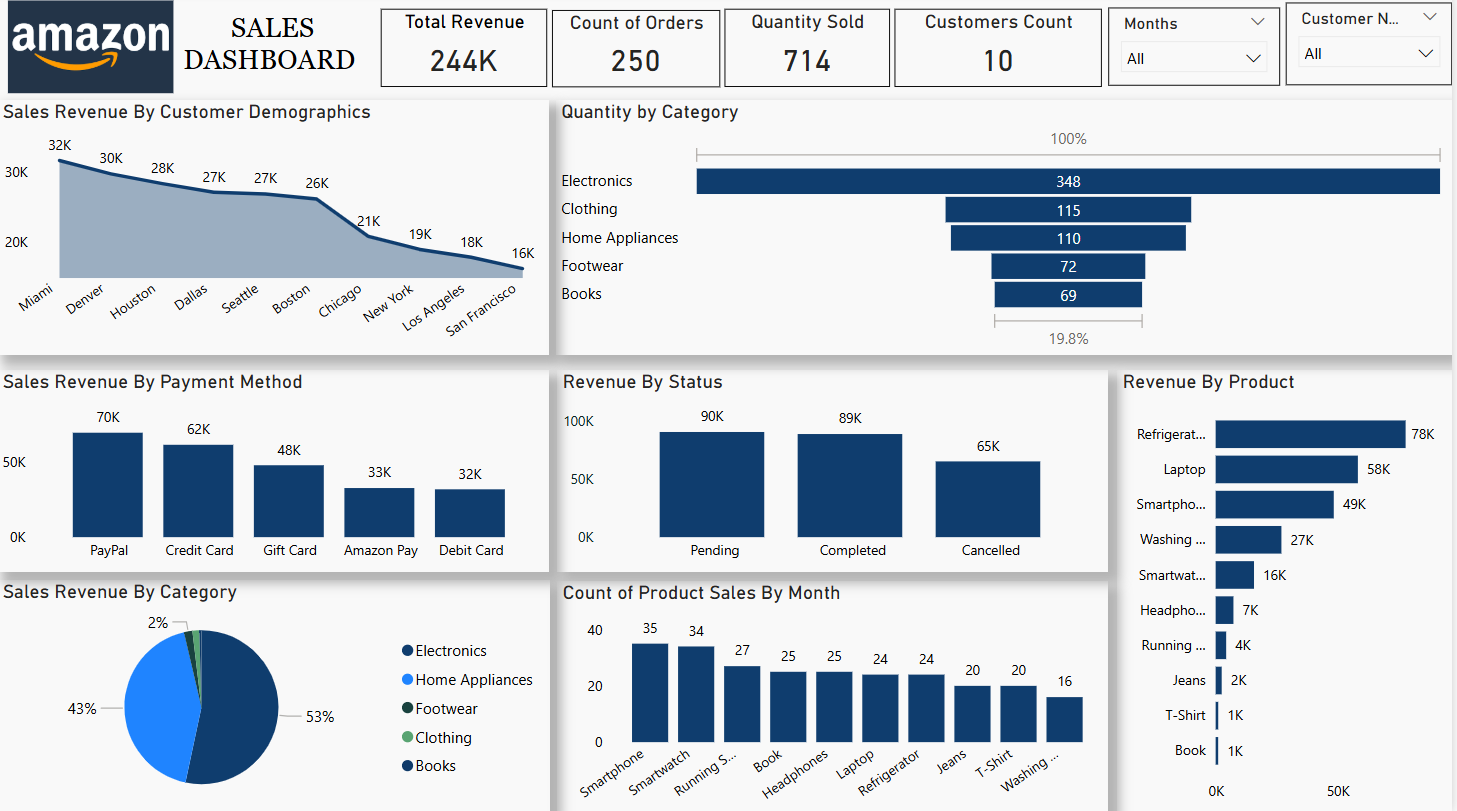

The page's visual inventory and layout, read from the dashboard file:
{"tool":"powerbi","page":{"name":"Page 1","canvas":[1280,720],"ordinal":0},"visuals":[{"type":"lineChart","title":"Sales Revenue By Customer Demographics ","fields":{"Category":["amazon_sales_data 2025.Customer Location"],"Y":["Sum(amazon_sales_data 2025.Total Sales)"]},"box":[0,92.9,485.7,223.8],"z":0},{"type":"clusteredColumnChart","title":"Sales Revenue By Payment Method","fields":{"Category":["amazon_sales_data 2025.Payment Method"],"Y":["Sum(amazon_sales_data 2025.Total Sales)"]},"box":[0,329.8,485.7,177.4],"z":1000},{"type":"clusteredColumnChart","title":"Revenue By Status","fields":{"Category":["amazon_sales_data 2025.Status"],"Y":["Sum(amazon_sales_data 2025.Total Sales)"]},"box":[492.9,329.8,484.5,177.4],"z":2000},{"type":"clusteredColumnChart","title":"Count of Product Sales By Month","fields":{"Y":["CountNonNull(amazon_sales_data 2025.Months)"],"Category":["amazon_sales_data 2025.Product"]},"box":[492.9,515.2,484.5,204.8],"z":3000},{"type":"funnel","title":"Quantity by Category","fields":{"Category":["amazon_sales_data 2025.Category"],"Y":["Sum(amazon_sales_data 2025.Quantity)"]},"box":[491.7,92.9,788.1,223.8],"z":4000},{"type":"clusteredBarChart","title":"Revenue By Product","fields":{"Y":["Sum(amazon_sales_data 2025.Total Sales)"],"Category":["amazon_sales_data 2025.Product"]},"box":[985.7,329.8,294,389.3],"z":5000},{"type":"card","title":"Total Revenue","fields":{"Values":["Sum(amazon_sales_data 2025.Total Sales)"]},"box":[333.2,12.1,147.3,69.3],"z":6000},{"type":"card","title":"Count of Orders","fields":{"Values":["CountNonNull(amazon_sales_data 2025.Order ID)"]},"box":[484.8,13.1,147.6,67.9],"z":7000},{"type":"card","title":"Quantity Sold","fields":{"Values":["Sum(amazon_sales_data 2025.Quantity)"]},"box":[636.7,11.9,145.2,69],"z":8000},{"type":"card","title":"Customers Count","fields":{"Values":["Count(amazon_sales_data 2025.Customer Name)"]},"box":[786.2,11.9,182.1,69],"z":9000},{"type":"slicer","fields":{"Values":["amazon_sales_data 2025.Customer Name"]},"box":[1123.8,11.9,156,67.9],"z":10000},{"type":"slicer","fields":{"Values":["amazon_sales_data 2025.Months"]},"box":[972.7,10.7,151.2,69],"z":11000},{"type":"image","box":[0,0,165.5,91.7],"z":12000},{"type":"textbox","box":[156,9.5,172.6,73.8],"z":13000},{"type":"pieChart","title":" Sales Revenue By Category","fields":{"Category":["amazon_sales_data 2025.Category"],"Y":["Sum(amazon_sales_data 2025.Total Sales)"]},"box":[0,515,486,205],"z":14000}]}

Visuals, with their boxes in screenshot pixels (x1, y1, x2, y2), scaled from the page's 1280x720 canvas onto the 1457x811 screenshot:
"Sales Revenue By Customer Demographics " lineChart: region(0, 105, 553, 357)
"Sales Revenue By Payment Method" clusteredColumnChart: region(0, 371, 553, 571)
"Revenue By Status" clusteredColumnChart: region(561, 371, 1113, 571)
"Count of Product Sales By Month" clusteredColumnChart: region(561, 580, 1113, 810)
"Quantity by Category" funnel: region(560, 105, 1456, 357)
"Revenue By Product" clusteredBarChart: region(1122, 371, 1456, 810)
"Total Revenue" card: region(379, 14, 547, 92)
"Count of Orders" card: region(552, 15, 720, 91)
"Quantity Sold" card: region(725, 13, 890, 91)
"Customers Count" card: region(895, 13, 1102, 91)
slicer - amazon_sales_data 2025.Customer Name: region(1279, 13, 1456, 90)
slicer - amazon_sales_data 2025.Months: region(1107, 12, 1279, 90)
image: region(0, 0, 188, 103)
textbox: region(178, 11, 374, 94)
" Sales Revenue By Category" pieChart: region(0, 580, 553, 810)
